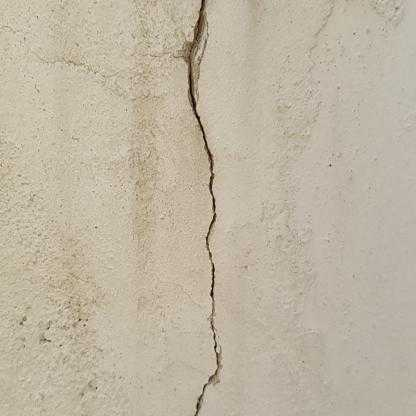crack: (188, 1, 219, 415)
